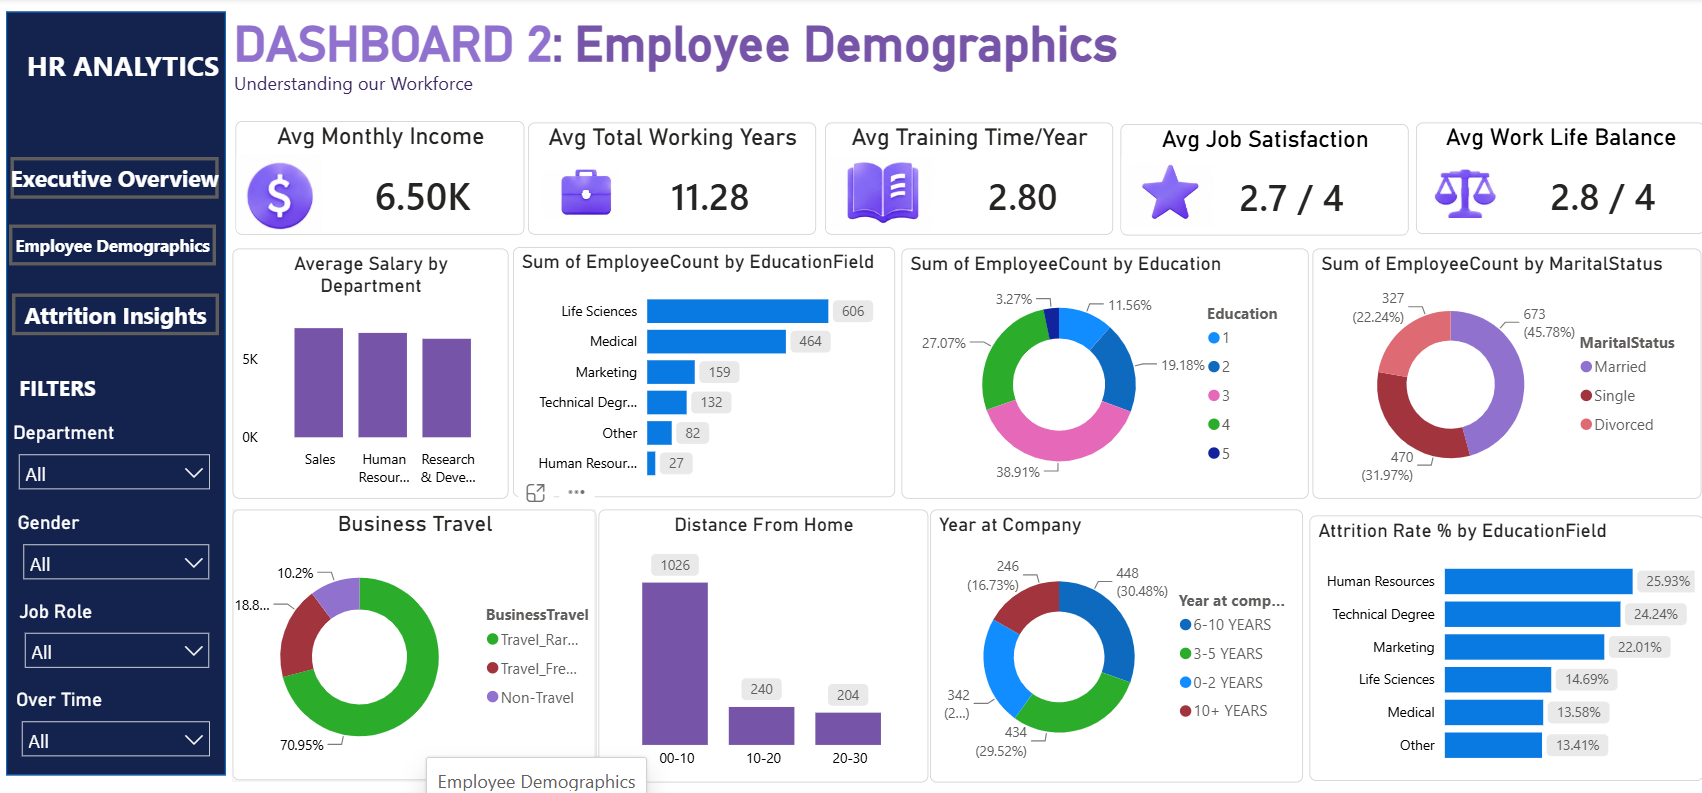

Layout of this report page (visuals, bound fields, positions):
{"tool":"powerbi","page":{"name":"Employee Demographics","canvas":[1500,710],"ordinal":1},"visuals":[{"type":"textbox","box":[205.6,14.4,807.8,84.4],"z":0},{"type":"cardVisual","title":"Avg Monthly Income","fields":{"Data":["HR-Employee-Attrition.Average Monthly Income"]},"box":[206.4,108,254,100],"z":1000},{"type":"cardVisual","title":"Avg Training Time/Year","fields":{"Data":["Avg(HR-Employee-Attrition.TrainingTimesLastYear)"]},"box":[724.8,109,253,98.3],"z":2000},{"type":"cardVisual","title":"Avg Total Working Years","fields":{"Data":["Avg(HR-Employee-Attrition.TotalWorkingYears)"]},"box":[464.8,109.7,253,98.3],"z":3000},{"type":"barChart","fields":{"Category":["HR-Employee-Attrition.EducationField"],"Y":["Sum(HR-Employee-Attrition.EmployeeCount)"]},"box":[451.7,219.1,336.2,220],"z":4000},{"type":"cardVisual","title":"Avg Job Satisfaction","fields":{"Data":["department.Average Job Satisfaction"]},"box":[984.8,110.4,253,97.8],"z":5000},{"type":"cardVisual","title":"Avg Work Life Balance","fields":{"Data":["department.Average Work Life Balance"]},"box":[1244.4,110,254,98],"z":6000},{"type":"donutChart","fields":{"Category":["HR-Employee-Attrition.MaritalStatus"],"Y":["Sum(HR-Employee-Attrition.EmployeeCount)"]},"box":[1154,220,342,220],"z":7000},{"type":"donutChart","fields":{"Y":["Sum(HR-Employee-Attrition.EmployeeCount)"],"Category":["HR-Employee-Attrition.Education"]},"box":[792,220,358,220],"z":8000},{"type":"donutChart","title":"Business Travel","fields":{"Y":["Sum(HR-Employee-Attrition.EmployeeCount)"],"Category":["HR-Employee-Attrition.BusinessTravel"]},"box":[204,450,320,238],"z":9000},{"type":"columnChart","title":"Distance From Home ","fields":{"Category":["HR-Employee-Attrition.Distance Bucket"],"Y":["CountNonNull(HR-Employee-Attrition.Employee ID)"]},"box":[526,450,290,240],"z":10000},{"type":"columnChart","title":"Average Salary by Department","fields":{"Category":["department.Department"],"Y":["Avg(HR-Employee-Attrition.MonthlyIncome)"]},"box":[204.2,220.3,242.5,220],"z":11000},{"type":"donutChart","title":"Year at Company","fields":{"Y":["Sum(HR-Employee-Attrition.EmployeeCount)"],"Category":["HR-Employee-Attrition.Year at compney bucket"]},"box":[818,450,328,240],"z":12000},{"type":"shape","box":[5,11.3,193.3,671.7],"z":13000},{"type":"textbox","box":[24,42.7,170.7,35.3],"z":14000},{"type":"slicer","title":"Department","fields":{"Values":["department.Department"]},"box":[6.7,372,187.7,62.6],"z":15000},{"type":"slicer","title":"Gender","fields":{"Values":["HR-Employee-Attrition.Gender"]},"box":[10.8,450.9,183.6,62.6],"z":16000},{"type":"slicer","title":"Job Role","fields":{"Values":["HR-Employee-Attrition.JobRole"]},"box":[12.1,528.4,182.3,63.9],"z":17000},{"type":"slicer","title":"Over Time","fields":{"Values":["HR-Employee-Attrition.OverTime"]},"box":[9.4,607.3,185,62.6],"z":18000},{"type":"actionButton","box":[9.4,139.7,183,36.7],"z":19000},{"type":"actionButton","box":[7.7,199.4,182,36.1],"z":20000},{"type":"actionButton","box":[10.8,259.4,182,36.7],"z":21000},{"type":"textbox","box":[12,324,100,41],"z":22000},{"type":"barChart","fields":{"Category":["HR-Employee-Attrition.EducationField"],"Y":["HR-Employee-Attrition.Attrition Rate %"]},"box":[1151.7,455,346.7,233.3],"z":22001}]}

Visuals, with their boxes on the page's 1500x710 design canvas (x1, y1, x2, y2). These are canvas units, not pixel positions in the 1702x793 screenshot, which may show the page scaled, cropped or inside an application window:
textbox: box=[206, 14, 1013, 99]
"Avg Monthly Income" cardVisual: box=[206, 108, 460, 208]
"Avg Training Time/Year" cardVisual: box=[725, 109, 978, 207]
"Avg Total Working Years" cardVisual: box=[465, 110, 718, 208]
barChart - HR-Employee-Attrition.EducationField x Sum(HR-Employee-Attrition.EmployeeCount): box=[452, 219, 788, 439]
"Avg Job Satisfaction" cardVisual: box=[985, 110, 1238, 208]
"Avg Work Life Balance" cardVisual: box=[1244, 110, 1498, 208]
donutChart - HR-Employee-Attrition.MaritalStatus x Sum(HR-Employee-Attrition.EmployeeCount): box=[1154, 220, 1496, 440]
donutChart - Sum(HR-Employee-Attrition.EmployeeCount) x HR-Employee-Attrition.Education: box=[792, 220, 1150, 440]
"Business Travel" donutChart: box=[204, 450, 524, 688]
"Distance From Home " columnChart: box=[526, 450, 816, 690]
"Average Salary by Department" columnChart: box=[204, 220, 447, 440]
"Year at Company" donutChart: box=[818, 450, 1146, 690]
shape: box=[5, 11, 198, 683]
textbox: box=[24, 43, 195, 78]
"Department" slicer: box=[7, 372, 194, 435]
"Gender" slicer: box=[11, 451, 194, 514]
"Job Role" slicer: box=[12, 528, 194, 592]
"Over Time" slicer: box=[9, 607, 194, 670]
actionButton: box=[9, 140, 192, 176]
actionButton: box=[8, 199, 190, 236]
actionButton: box=[11, 259, 193, 296]
textbox: box=[12, 324, 112, 365]
barChart - HR-Employee-Attrition.EducationField x HR-Employee-Attrition.Attrition Rate %: box=[1152, 455, 1498, 688]
